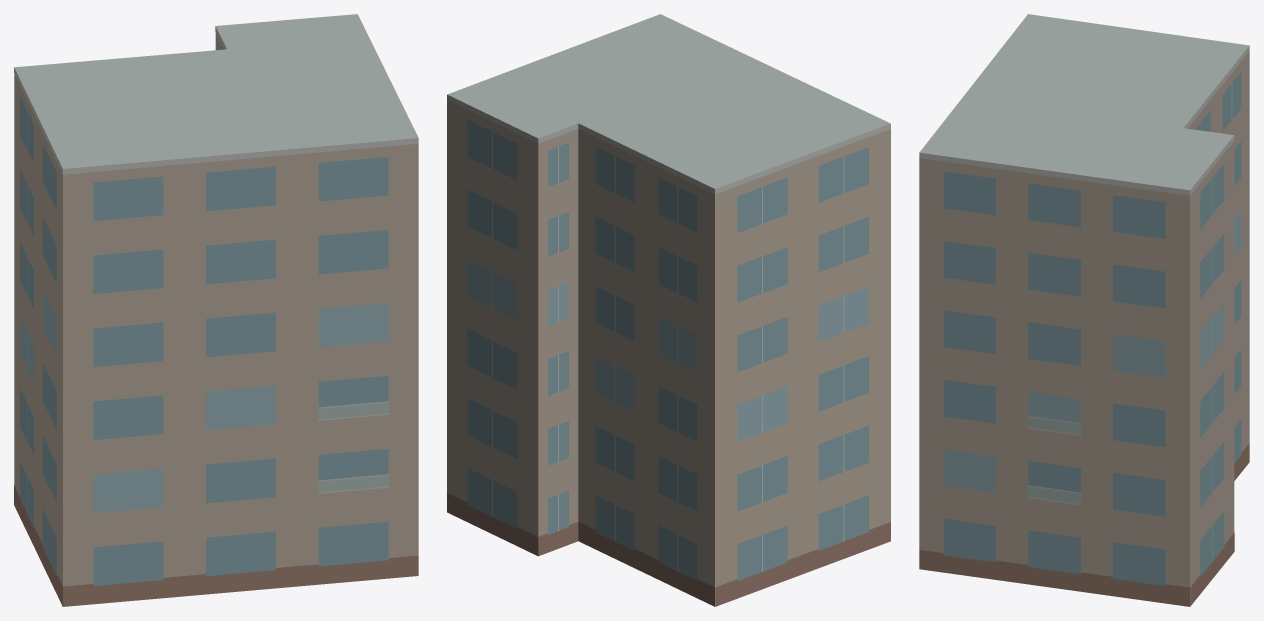
Rendered from survey-upis-32539742.glb.
3 views of the same model, side by side, from view 1: azimuth 30°, elevation 25°; view 2: azimuth 150°, elevation 25°; view 3: azimuth 270°, elevation 25° (orthographic). The views are drawn at different scales.
Parts seen in each view (by area): view 1: survey-upis-32539742.tmp; view 2: survey-upis-32539742.tmp; view 3: survey-upis-32539742.tmp.
Boxes of the visible parts, left/top/right/bottom form: survey-upis-32539742.tmp: left=14, top=14, right=418, bottom=606; survey-upis-32539742.tmp: left=447, top=14, right=890, bottom=606; survey-upis-32539742.tmp: left=919, top=14, right=1249, bottom=606.
Bounding box in the file's own units: 16.99 × 18.7 × 13.45.
